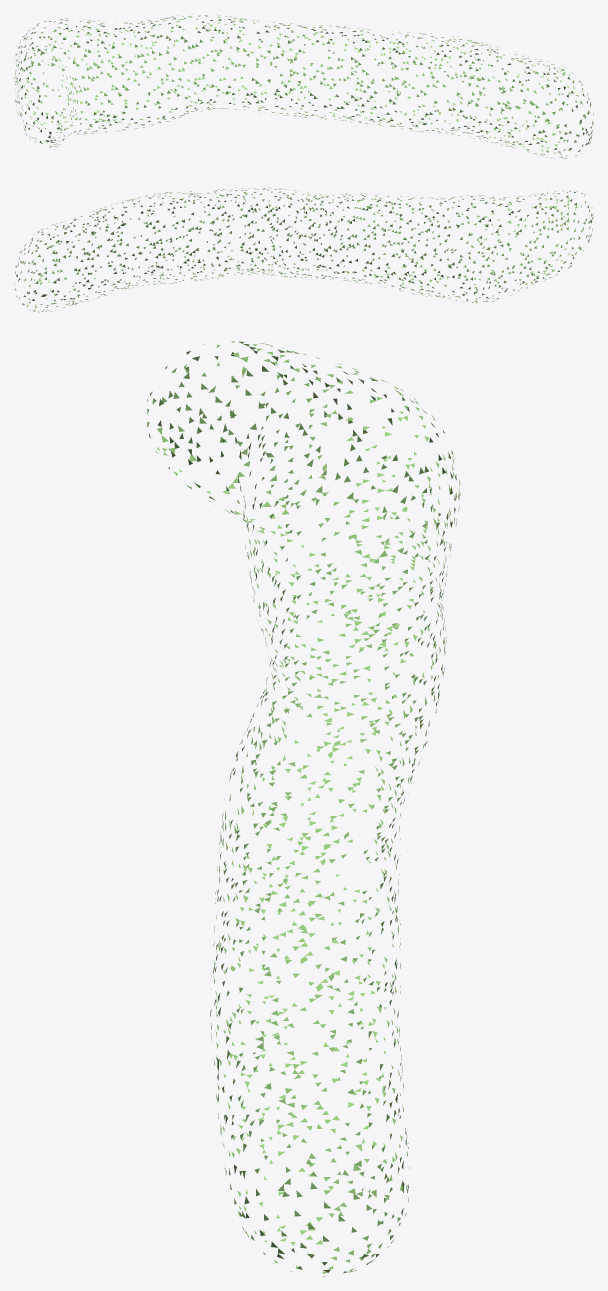
File: morph_014.glb
The picture shows the model from 3 angles, top to bottom: view 1: azimuth 30°, elevation 25°; view 2: azimuth 150°, elevation 25°; view 3: azimuth 270°, elevation 25°; orthographic projection. The views are drawn at different scales.
Size of the model in its own units: 119 by 47.96 by 30.48.
